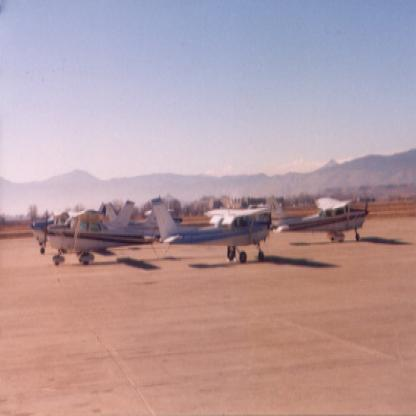aeroplane: (154, 200, 274, 264), (41, 210, 159, 265), (26, 199, 135, 255), (273, 193, 369, 244)
